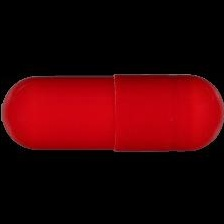55289-058: (0, 0, 224, 224)
